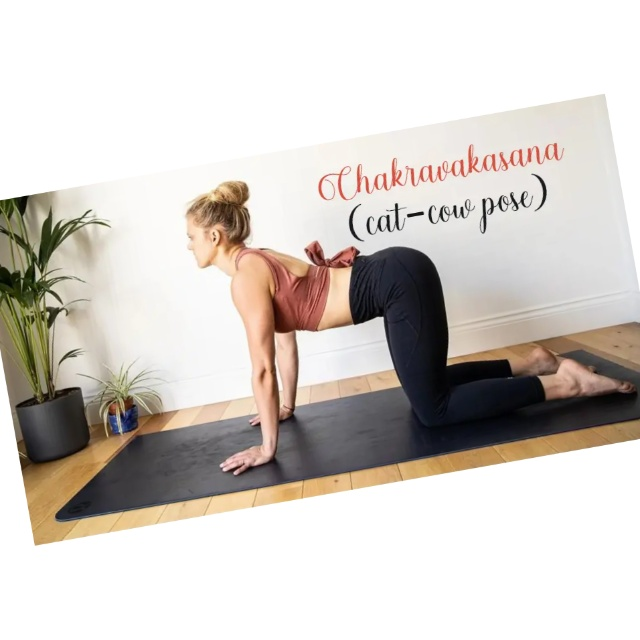Cow_Pose: (185, 181, 634, 477)
